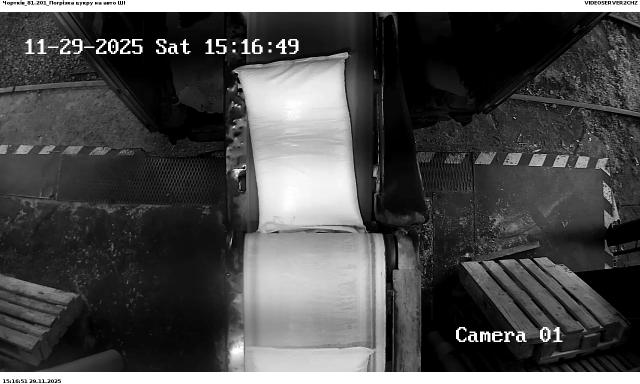bag: (236, 52, 372, 233), (245, 344, 375, 372)
